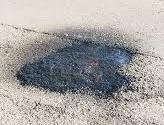pothole: (16, 35, 141, 101)
